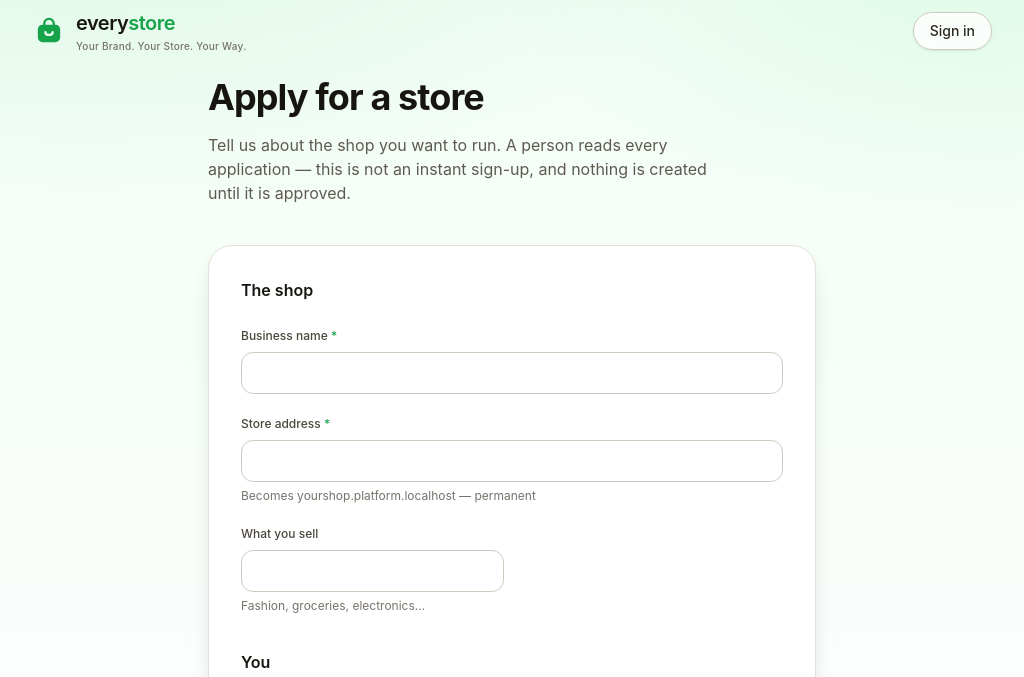
applying for a store › confirms it is an application, not a store
Type "Northwind Apparel" into the field labelled "Business name *" at (512, 373), box [241,352,783,394]
(page scrolled)
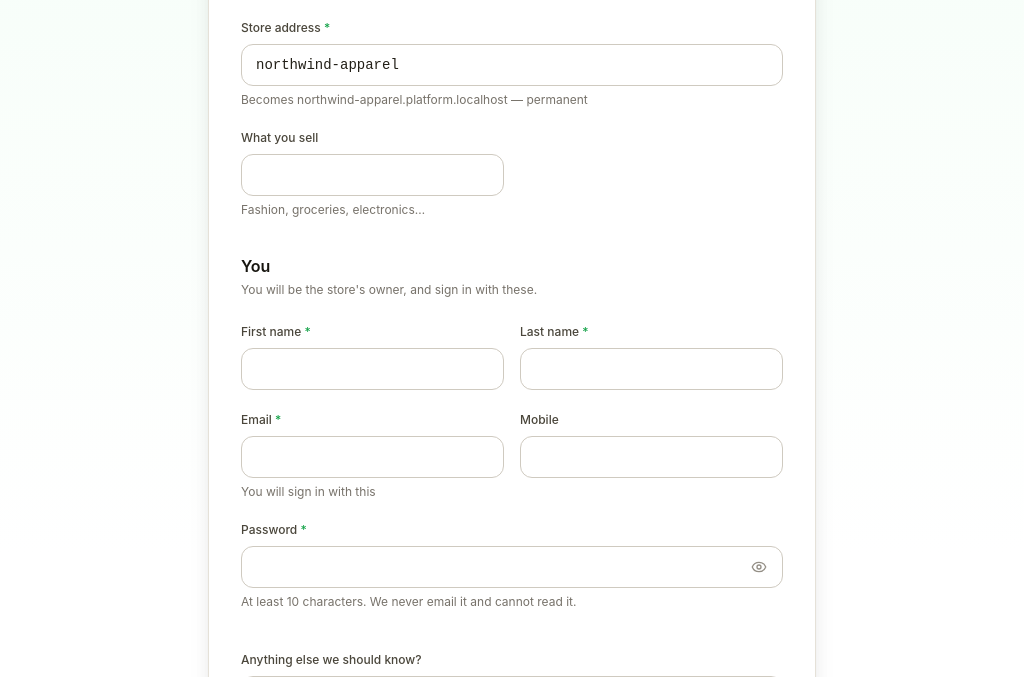
Type "Priya" into the field labelled "First name *" at (372, 369), box [241,348,504,390]
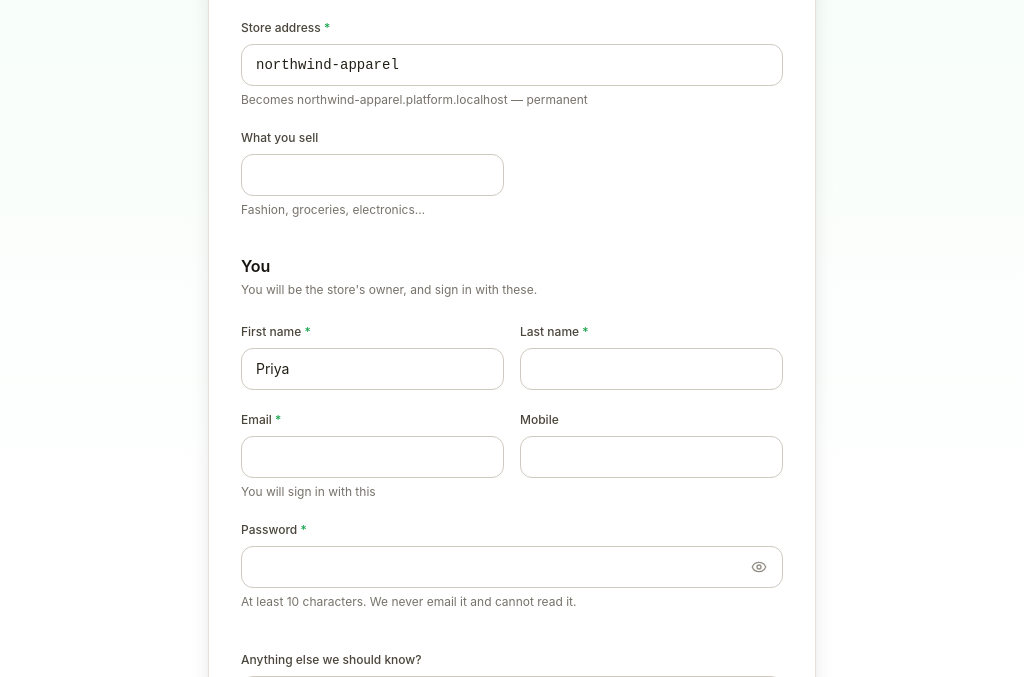
Type "Raman" into the field labelled "Last name *" at (652, 369), box [520,348,783,390]
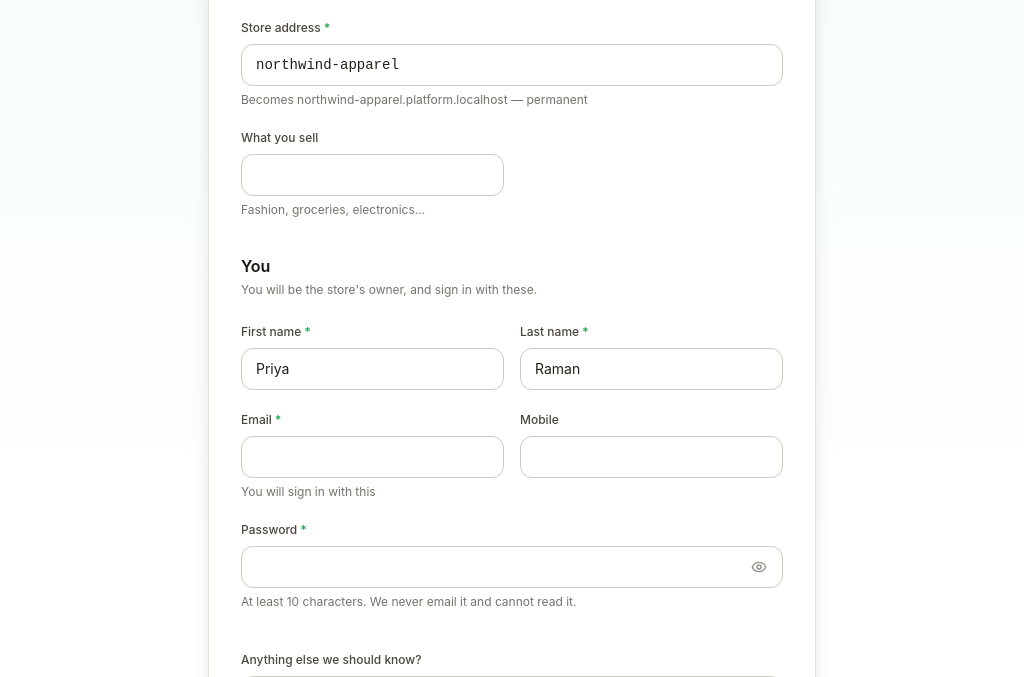
Type "priya@northwind.example" into the field labelled "Email * You will sign in with this" at (372, 457), box [241,436,504,478]
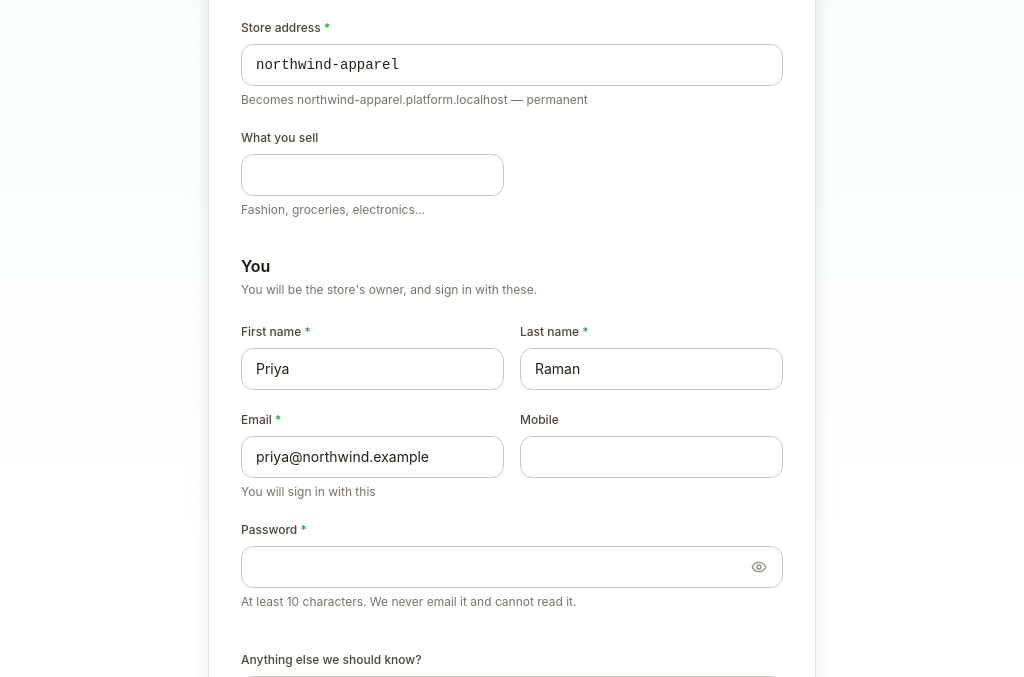
Type "a-long-enough-one" into the password field at (512, 567), box [241,546,783,588]
(page scrolled)
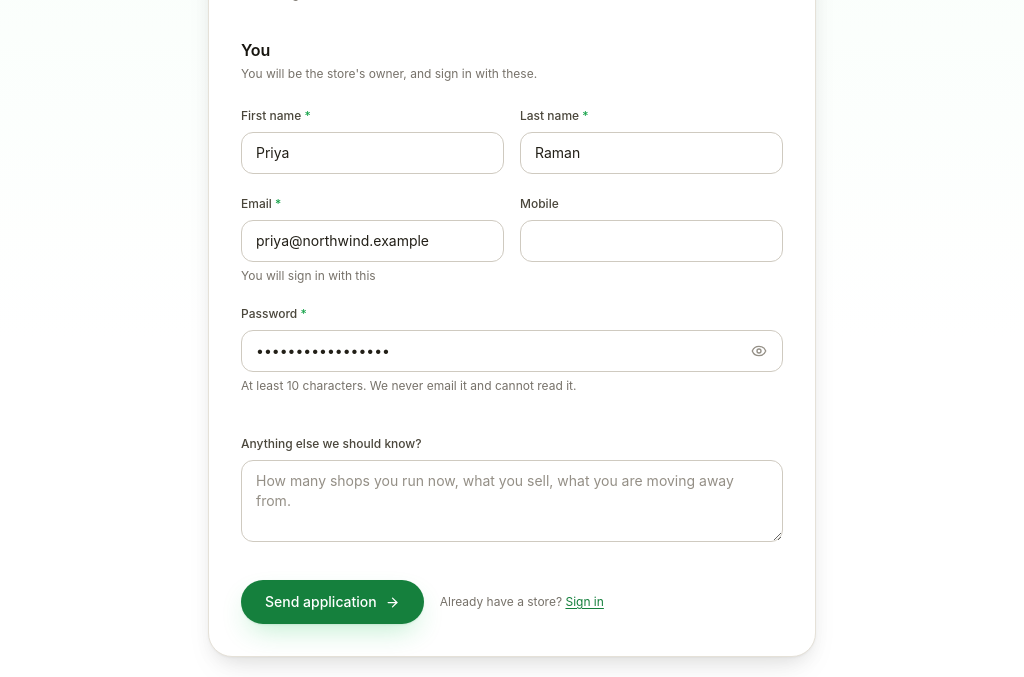
Click the button "Send application" at (332, 602), box [241,580,424,624]
(page scrolled)
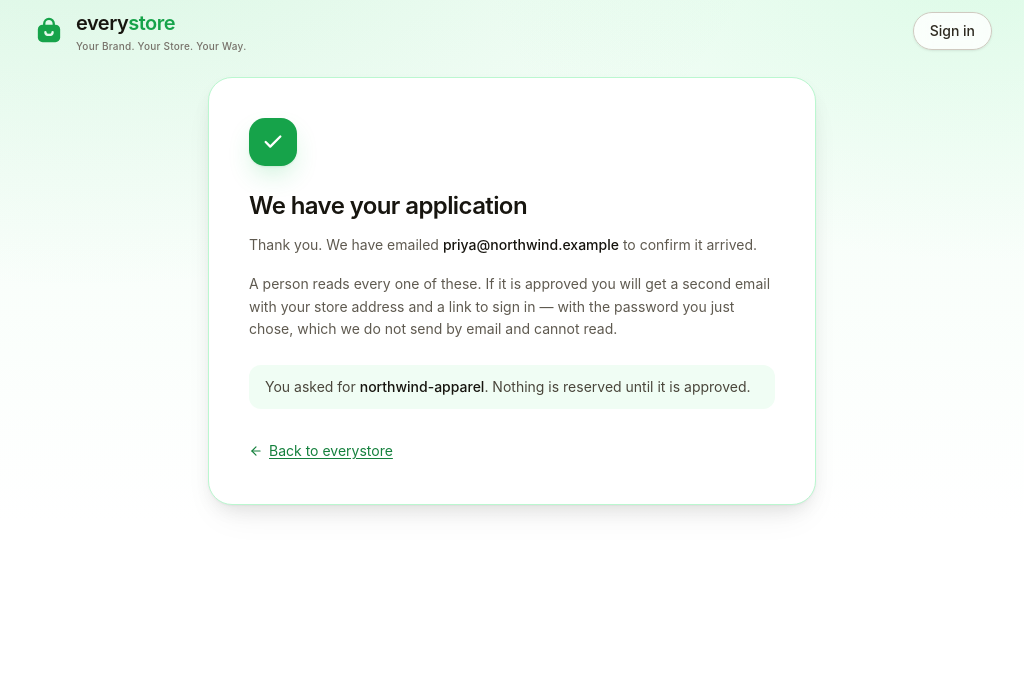
Check: the heading "We have your application" is shown, box [249,191,527,220]
Check: the text "Nothing is reserved until it is approved" is shown, box [484,378,751,395]
Check: the button "Send application" is gone
